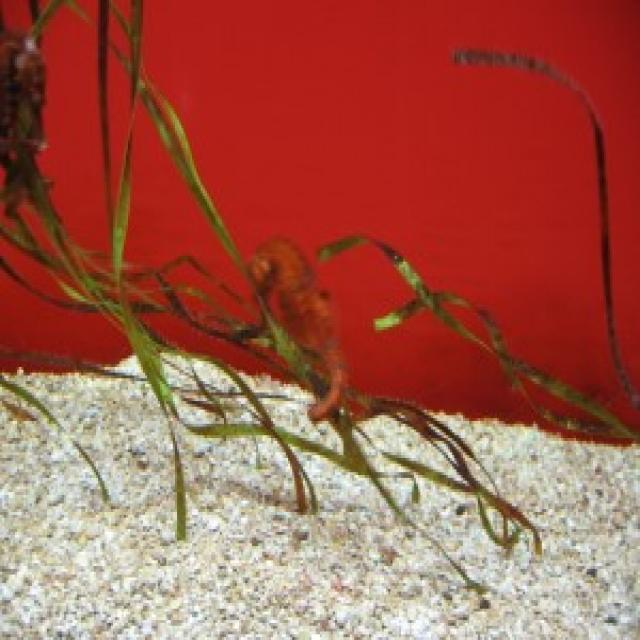Seahorse: (234, 236, 357, 438)
